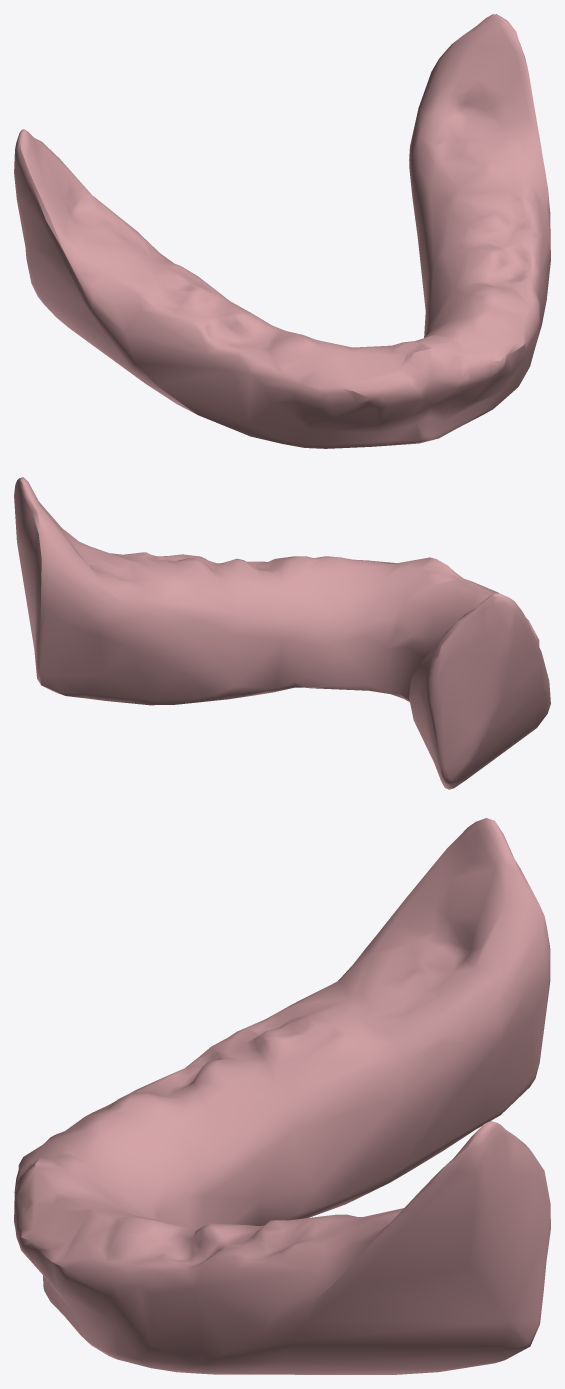
File: fma59764_fj1253.glb
The picture shows the model from 3 angles, top to bottom: view 1: azimuth 30°, elevation 25°; view 2: azimuth 150°, elevation 25°; view 3: azimuth 270°, elevation 25°; orthographic projection. The views are drawn at different scales.
Parts seen in each view (by area): view 1: FMA59764_FJ1253; view 2: FMA59764_FJ1253; view 3: FMA59764_FJ1253.
Boxes of the visible parts, x1,y1,x2,y2 form: FMA59764_FJ1253: (14, 14, 550, 448); FMA59764_FJ1253: (14, 477, 550, 789); FMA59764_FJ1253: (14, 818, 550, 1374).
Bounding box in the file's own units: 0.0753 × 0.036 × 0.0535.
